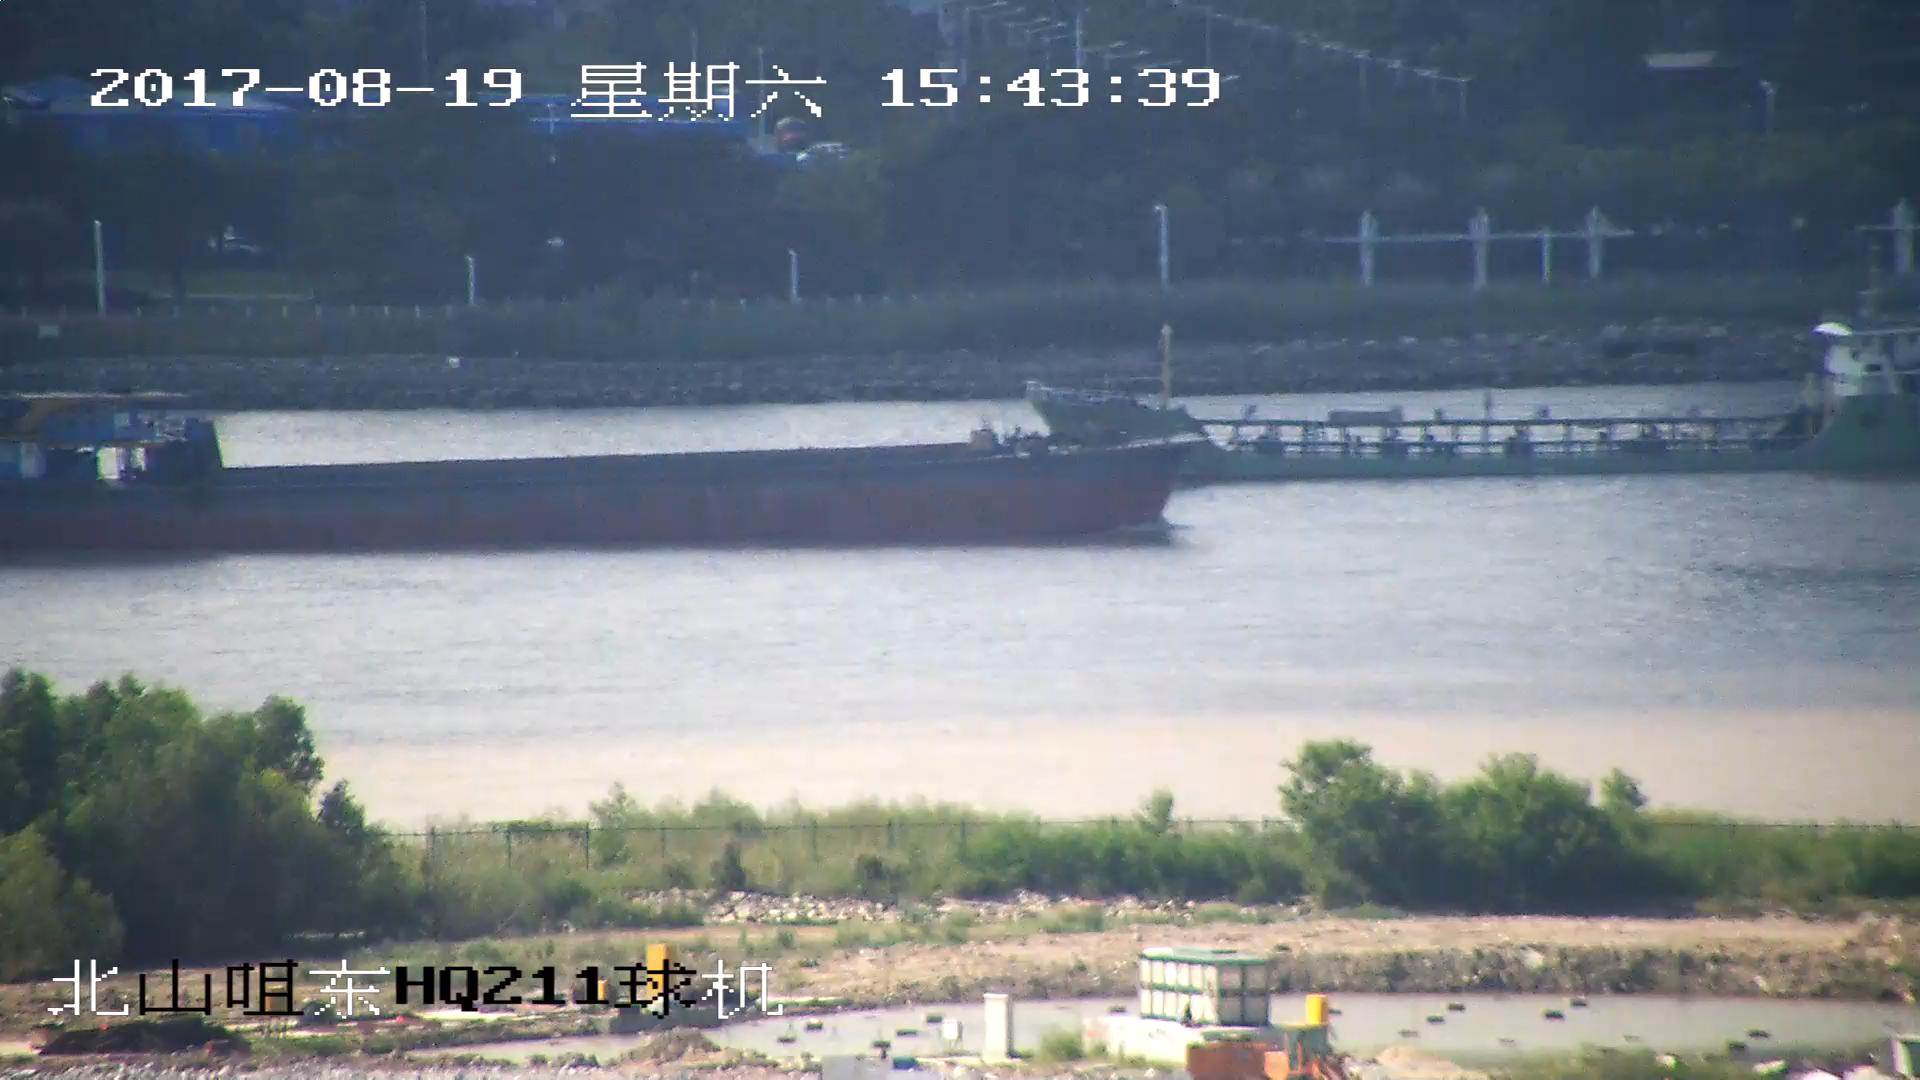bulk cargo carrier: (1, 387, 1189, 534)
general cargo ship: (1034, 334, 1920, 471)
